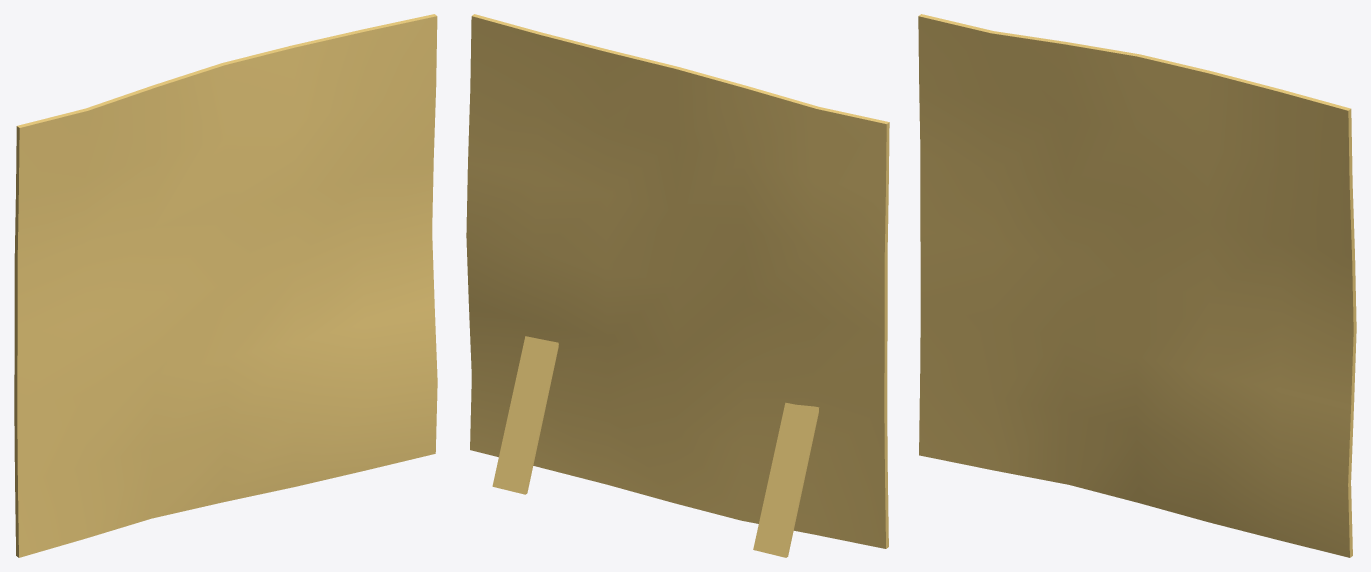
The model's file is Mur_4.fbx.
The picture shows the model from 3 angles, left to right: view 1: azimuth 30°, elevation 25°; view 2: azimuth 150°, elevation 25°; view 3: azimuth 330°, elevation 25°; orthographic projection. The views are drawn at different scales.
Parts seen in each view (by area): view 1: pasted__Mur1; view 2: pasted__Mur1, pasted__Soutient2, pasted__Soutient1; view 3: pasted__Mur1.
Boxes of the visible parts, box(x1,y1,x2,y2) form: pasted__Mur1: box(14, 14, 437, 557); pasted__Mur1: box(466, 14, 889, 548); pasted__Soutient2: box(492, 336, 558, 494); pasted__Soutient1: box(753, 402, 819, 557); pasted__Mur1: box(918, 14, 1356, 557).
Size of the model in its own units: 250 by 250 by 41.13.
